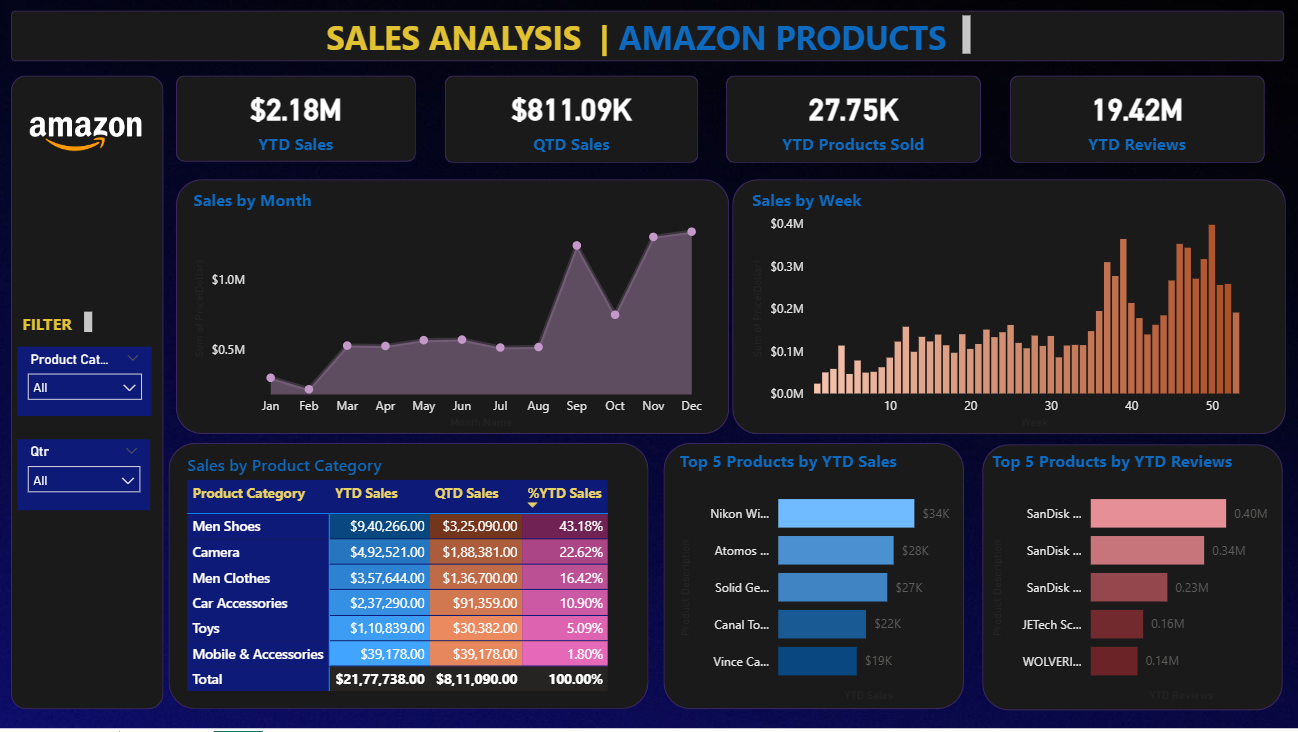

This screenshot's page, from the dashboard's own definition file:
{"tool":"powerbi","page":{"name":"Page 1","canvas":[1280,720],"ordinal":0},"visuals":[{"type":"shape","box":[176.7,76.1,235.6,84.7],"z":0,"group":"g1"},{"type":"shape","box":[15,12.5,1250,50],"z":0},{"type":"shape","box":[440.1,76.1,249.1,85.9],"z":1000,"group":"g1"},{"type":"textbox","box":[318.8,12.5,642.5,50],"z":1000},{"type":"shape","box":[717,76.1,250.3,85.9],"z":2000,"group":"g1"},{"type":"shape","box":[14.7,76.1,149.7,622.1],"z":2000},{"type":"shape","box":[995.1,76.1,250.3,85.9],"z":3000,"group":"g1"},{"type":"group","id":"g1","title":"Group 1","box":[176.7,76.1,1068.7,85.9],"z":3000},{"type":"card","fields":{"Values":["Amazon_Data.YTD Sales"]},"box":[176.7,76.1,235.6,84.7],"z":4000,"group":"g1"},{"type":"shape","box":[176.7,177.9,543,250],"z":4000},{"type":"card","fields":{"Values":["Amazon_Data.QTD Sales"]},"box":[440.5,76.1,249.1,85.9],"z":5000,"group":"g1"},{"type":"areaChart","title":"Sales by Month","fields":{"Category":["Date Table.Month Name"],"Y":["Sum(Amazon_Data.Price(Dollar))"]},"box":[189,186.5,514.1,241.7],"z":5000},{"type":"card","fields":{"Values":["Amazon_Data.YTD Products Sold"]},"box":[716.6,76.1,250.3,85.9],"z":6000,"group":"g1"},{"type":"shape","box":[722.7,177.9,543.6,250.3],"z":6000},{"type":"card","fields":{"Values":["Amazon_Data.YTD Reviews"]},"box":[995.1,76.1,250.3,85.9],"z":7000,"group":"g1"},{"type":"shape","box":[168.9,436.7,471.1,261.1],"z":7000},{"type":"clusteredColumnChart","title":"Sales by Week","fields":{"Category":["Date Table.Week"],"Y":["Sum(Amazon_Data.Price(Dollar))"]},"box":[737.4,186.5,508,241.7],"z":8000},{"type":"pivotTable","title":"Sales by Product Category","fields":{"Rows":["Amazon_Data.Product Category"],"Values":["Amazon_Data.YTD Sales1","Amazon_Data.QTD Sales","Amazon_Data.YTD Sales"]},"box":[182.2,446.7,443.3,243.3],"z":9000},{"type":"shape","box":[967.5,437.5,295,261.2],"z":10000},{"type":"shape","box":[655.7,436.2,295,261.2],"z":11000},{"type":"clusteredBarChart","title":"Top 5 Products by YTD Sales","fields":{"Category":["Amazon_Data.Product Description"],"Y":["Amazon_Data.YTD Sales"]},"box":[666.2,442.5,285,252.5],"z":12000},{"type":"clusteredBarChart","title":"Top 5 Products by YTD Reviews","fields":{"Category":["Amazon_Data.Product Description"],"Y":["Amazon_Data.YTD Reviews"]},"box":[972.5,442.5,285,252.5],"z":13000},{"type":"slicer","fields":{"Values":["Amazon_Data.Product Category"]},"box":[21.3,342.7,132,68],"z":14000},{"type":"slicer","fields":{"Values":["Date Table.Qtr"]},"box":[21.3,433.3,130.7,69.3],"z":15000},{"type":"image","box":[33.3,105.3,109.3,56],"z":16000},{"type":"textbox","box":[21.3,302.7,78.7,30.7],"z":17000}]}

Visuals, with their boxes in screenshot pixels (x1, y1, x2, y2), scaled from the page's 1280x720 canvas onto the 1298x732 screenshot:
shape: [179,77,418,163]
shape: [15,13,1283,64]
shape: [446,77,699,165]
textbox: [323,13,975,64]
shape: [727,77,981,165]
shape: [15,77,167,710]
shape: [1009,77,1263,165]
"Group 1" group: [179,77,1263,165]
card - Amazon_Data.YTD Sales: [179,77,418,163]
shape: [179,181,730,435]
card - Amazon_Data.QTD Sales: [447,77,699,165]
"Sales by Month" areaChart: [192,190,713,435]
card - Amazon_Data.YTD Products Sold: [727,77,980,165]
shape: [733,181,1284,435]
card - Amazon_Data.YTD Reviews: [1009,77,1263,165]
shape: [171,444,649,709]
"Sales by Week" clusteredColumnChart: [748,190,1263,435]
"Sales by Product Category" pivotTable: [185,454,634,702]
shape: [981,445,1280,710]
shape: [665,443,964,709]
"Top 5 Products by YTD Sales" clusteredBarChart: [676,450,965,707]
"Top 5 Products by YTD Reviews" clusteredBarChart: [986,450,1275,707]
slicer - Amazon_Data.Product Category: [22,348,155,418]
slicer - Date Table.Qtr: [22,441,154,511]
image: [34,107,145,164]
textbox: [22,308,101,339]
